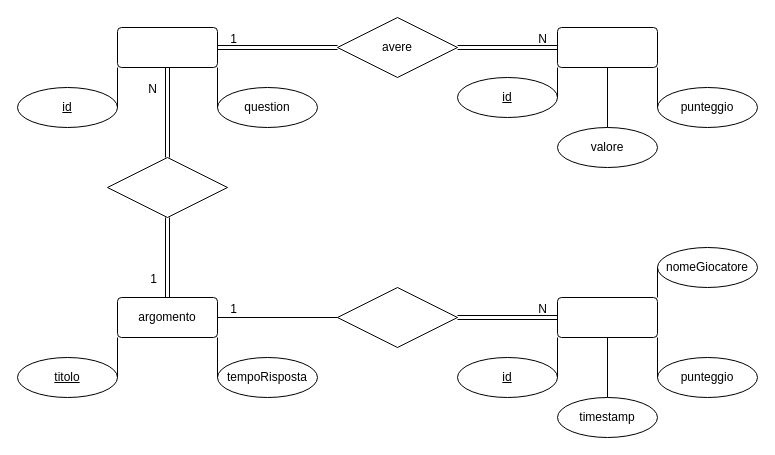
Image size: 775x455. Some labels were removed from this diagram. Here are the shapes that lost their labels. From the top down, the centre of each, then its label:
At pixel 167 47: "domanda".
At pixel 607 47: "risposta".
At pixel 167 187: "riguardare".
At pixel 397 317: "basare".
At pixel 607 317: "partita".
